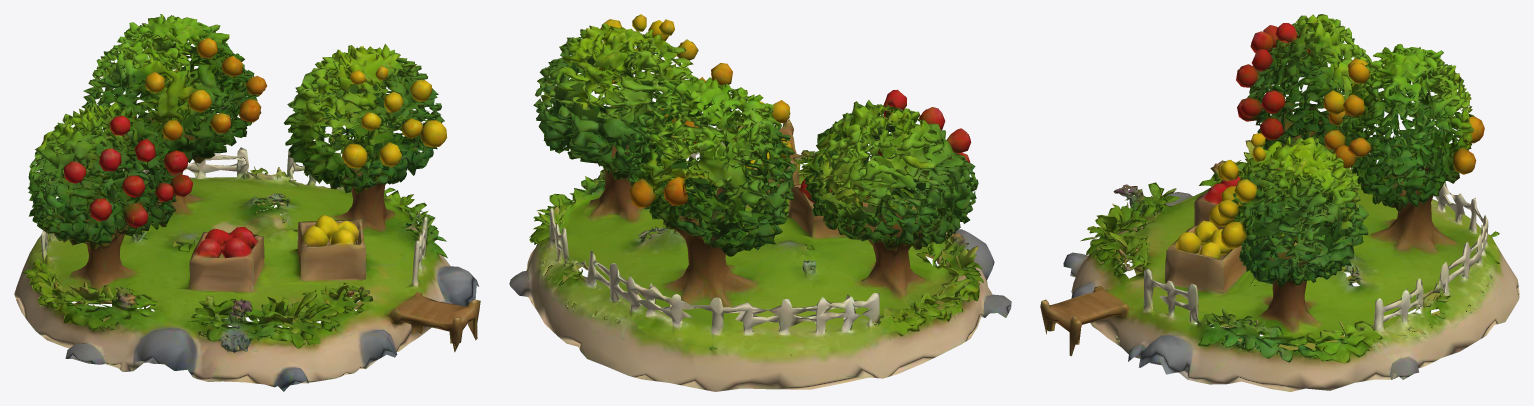
Rendered from isl-05.glb.
The picture shows the model from 3 angles, left to right: view 1: azimuth 30°, elevation 25°; view 2: azimuth 150°, elevation 25°; view 3: azimuth 270°, elevation 25°; orthographic projection. The views are drawn at different scales.
Visible parts, largest first — view 1: world; view 2: world; view 3: world.
Part boxes in pixels (x1,y1,x2,y2): world: (14,14,480,391); world: (509,14,1011,391); world: (1040,14,1519,391).
Size of the model in its own units: 0.9442 by 0.5358 by 0.974.
1 material, 1 textured.
